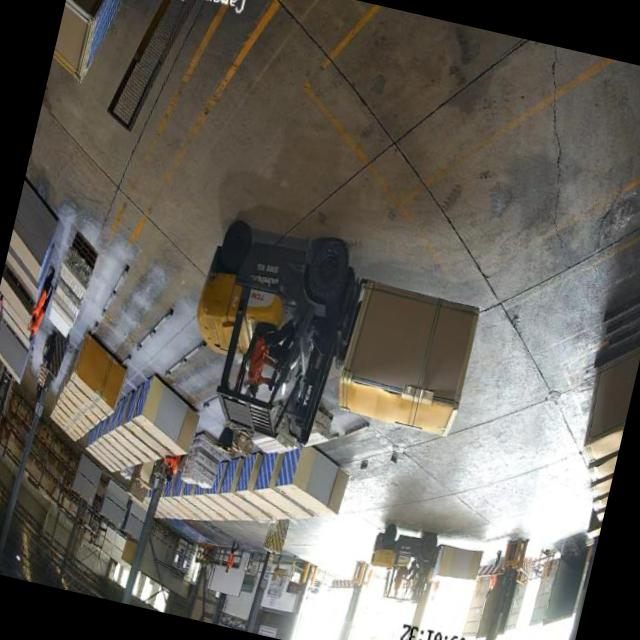driver: (238, 317, 290, 401), (390, 568, 411, 596)
forklift: (165, 205, 372, 460), (359, 513, 444, 614)
person: (30, 270, 53, 326), (225, 542, 238, 574), (165, 457, 178, 482), (486, 576, 496, 596)
